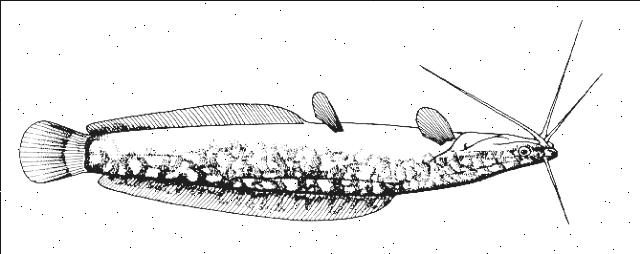Mulut: (526, 120, 576, 168)
Sirip Anal: (76, 96, 312, 136)
Sirip Dada: (408, 96, 464, 152)
Sirip Ekor: (12, 106, 86, 198)
Sirip Perut: (302, 78, 350, 140)
Sirip Punggung: (86, 165, 402, 231)
